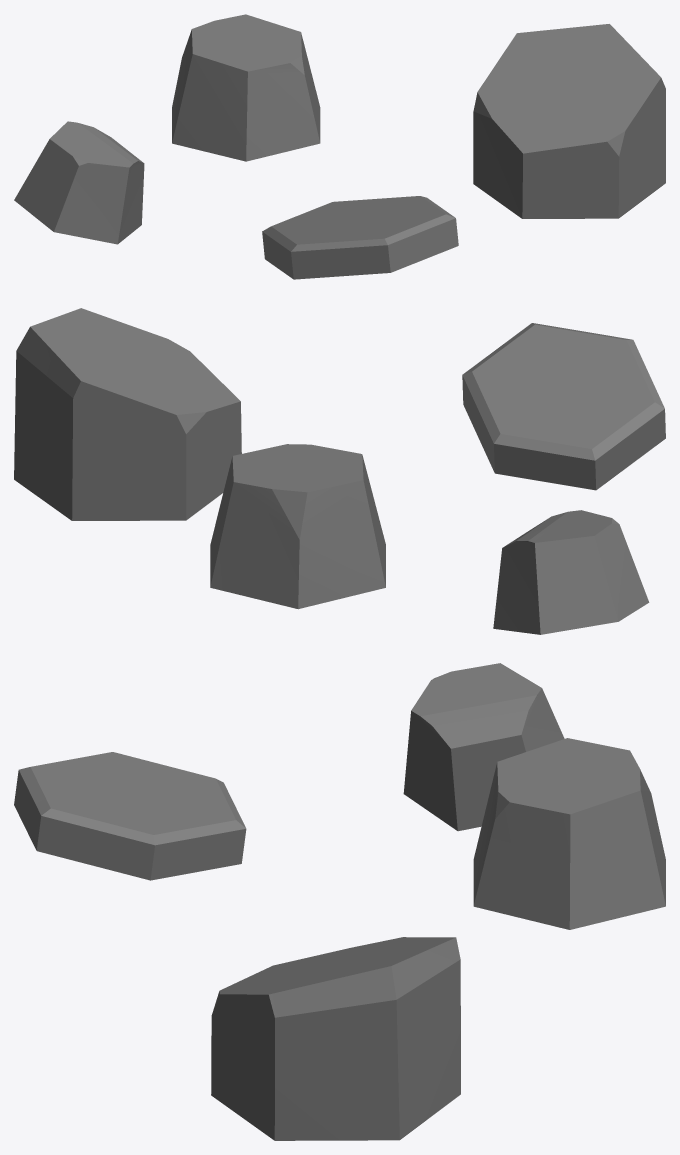
File: rock_formation1.fbx
3 renders of one model, top to bottom at view 1: azimuth 30°, elevation 25°; view 2: azimuth 150°, elevation 25°; view 3: azimuth 270°, elevation 25°, orthographic. The views are drawn at different scales.
Visible parts, largest first — view 1: rock; view 2: rock; view 3: rock.
Part boxes in pixels (x1=…): rock: x1=14, y1=14, x2=665, y2=279; rock: x1=14, y1=308, x2=665, y2=634; rock: x1=14, y1=663, x2=665, y2=1140.
Bounding box in the file's own units: 958 × 224 × 748.
